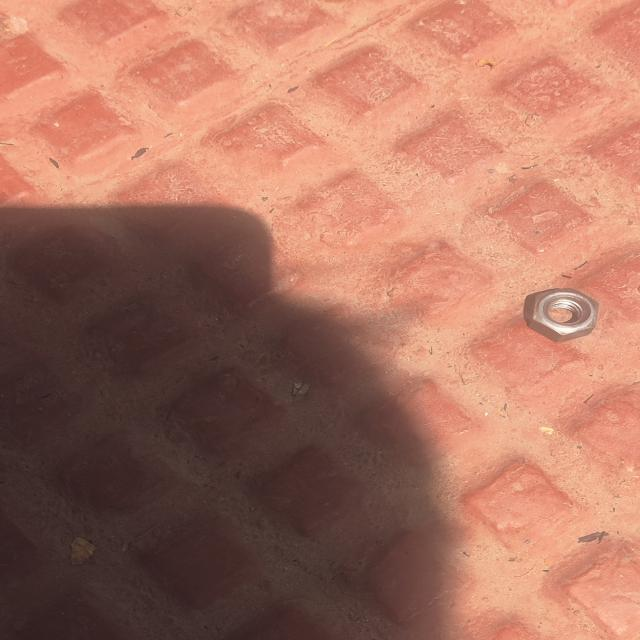disinfected nut: (523, 288, 600, 342)
